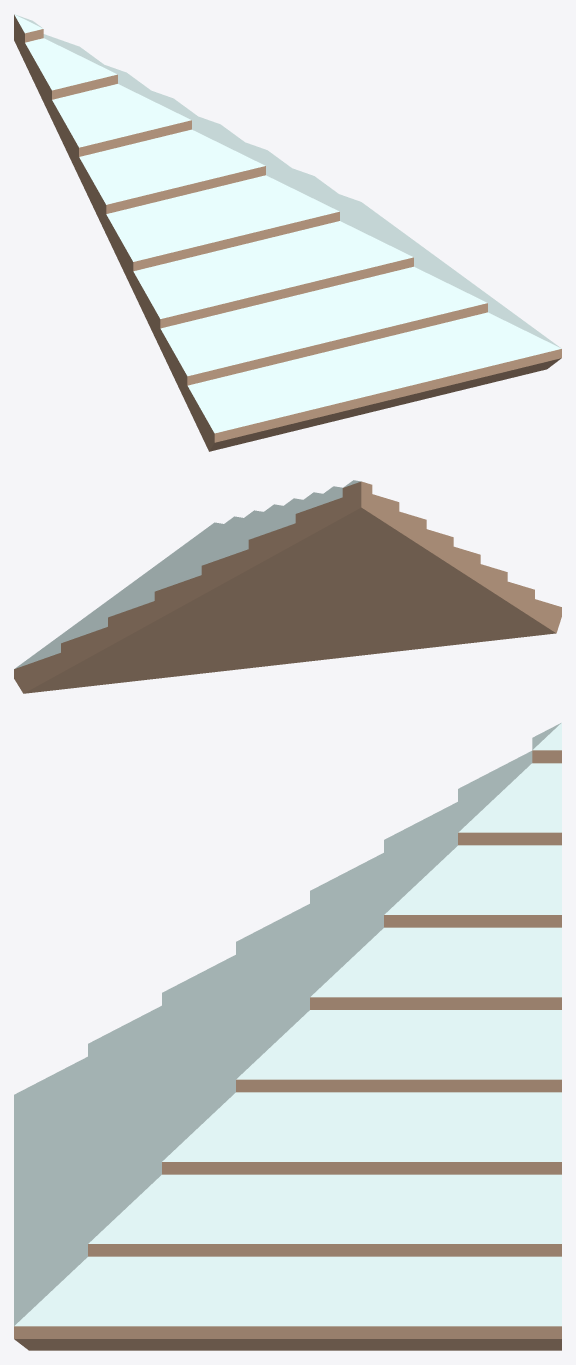
Rendered from cabinRoofCorner.glb.
The picture shows the model from 3 angles, top to bottom: view 1: azimuth 30°, elevation 25°; view 2: azimuth 150°, elevation 25°; view 3: azimuth 270°, elevation 25°; orthographic projection. The views are drawn at different scales.
Visible parts, largest first — view 1: cabinRoofCorner(Clone); view 2: cabinRoofCorner(Clone); view 3: cabinRoofCorner(Clone).
Part boxes in pixels (x1,y1,x2,y2): cabinRoofCorner(Clone): (14,14,561,451); cabinRoofCorner(Clone): (14,480,561,693); cabinRoofCorner(Clone): (14,722,561,1350).
Bounding box in the file's own units: 1.12 × 0.9046 × 1.12.
